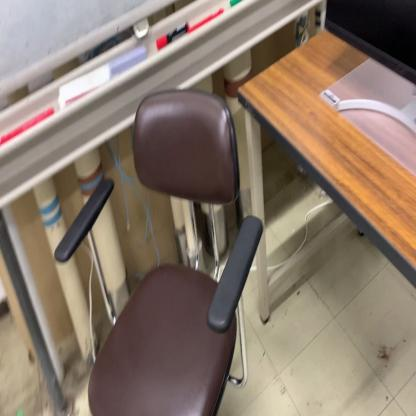chair: (53, 84, 264, 416)
